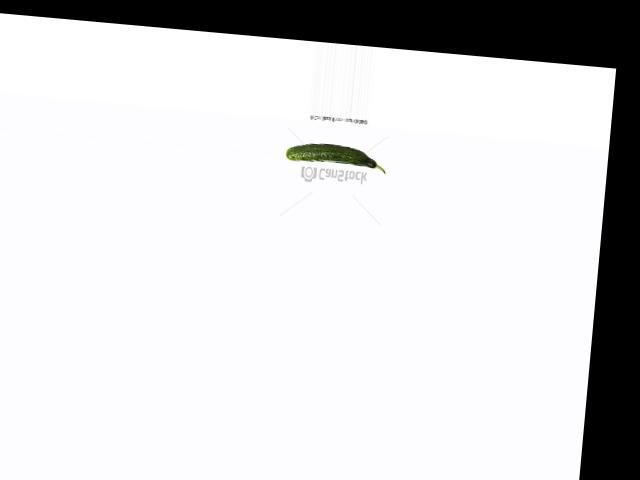cucumber: (285, 140, 388, 173)
